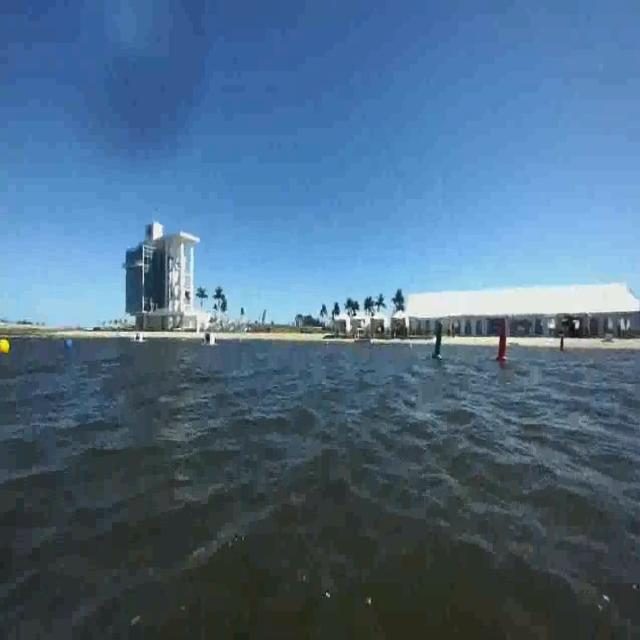green-column-buoy: (434, 315, 446, 369)
red-column-buoy: (495, 319, 511, 364)
yellow-buoy: (0, 338, 11, 357)
